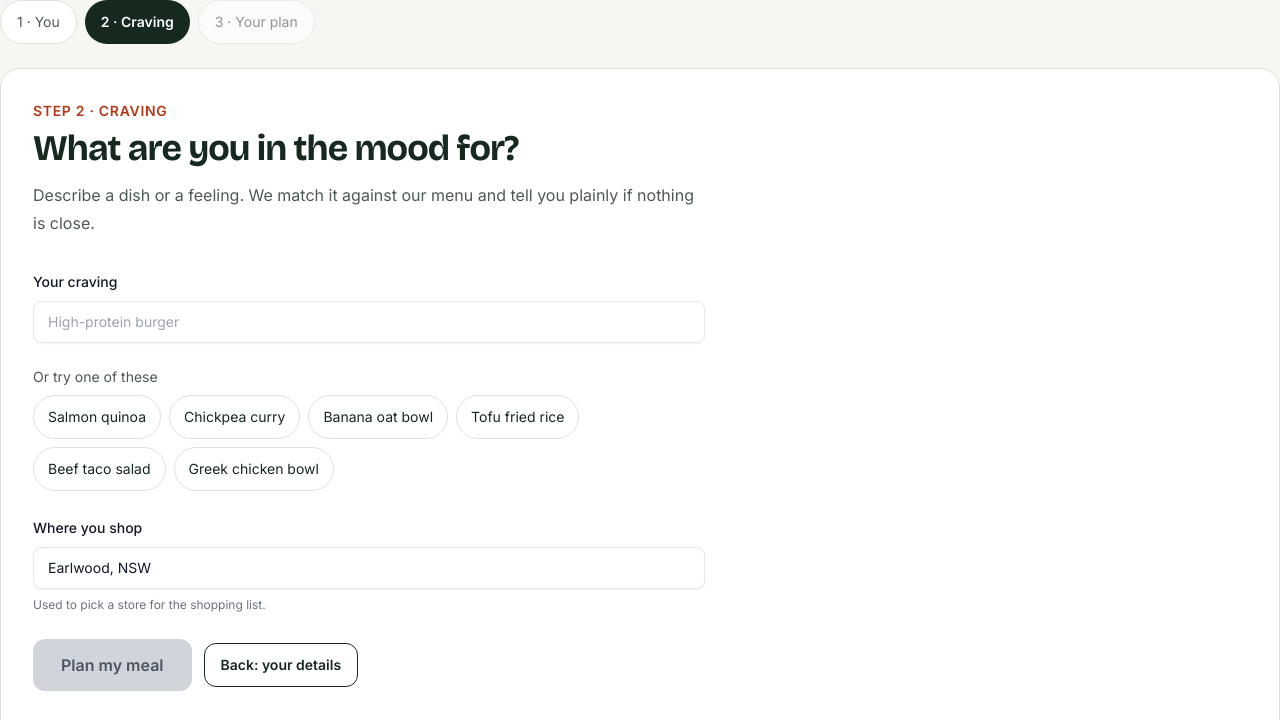
Scenario: MealFlow error text › shows the reason instead of an empty plan when no meal is feasible
Type "tofu" into the field labelled "Your craving" at (369, 322), box [33,301,705,343]
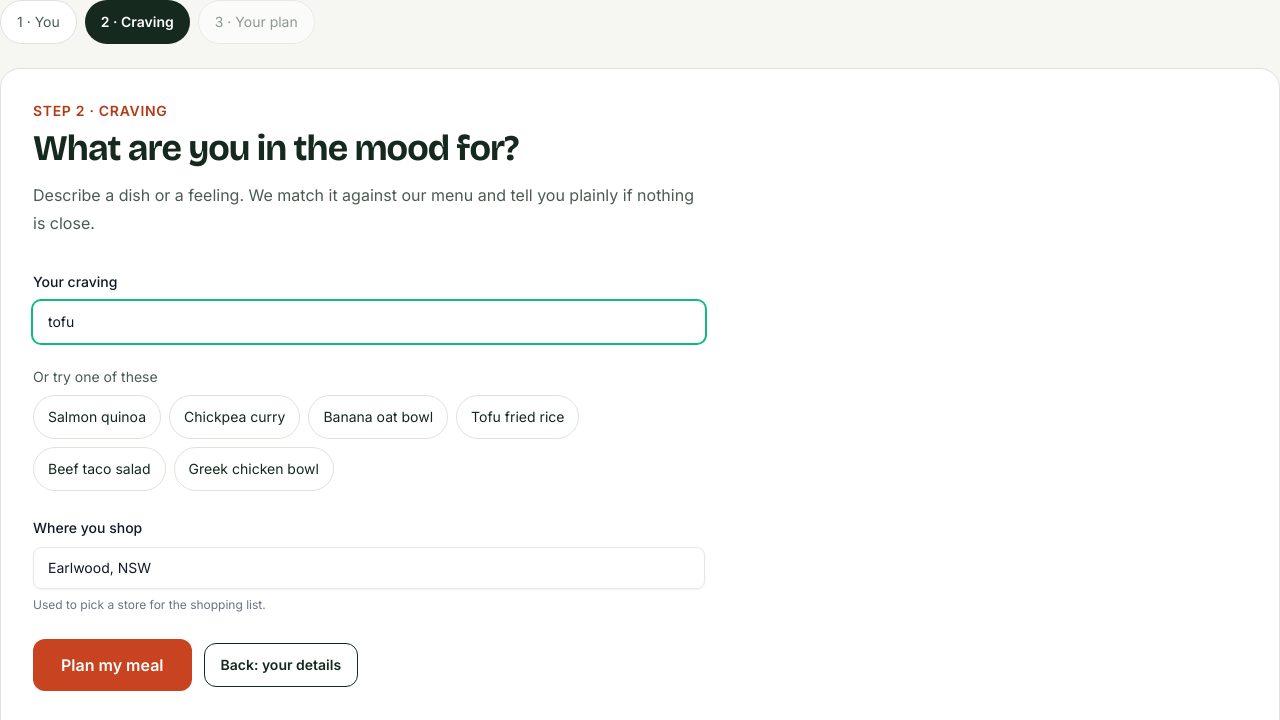
Click the button "Plan my meal" at (112, 665), box [33,639,192,691]
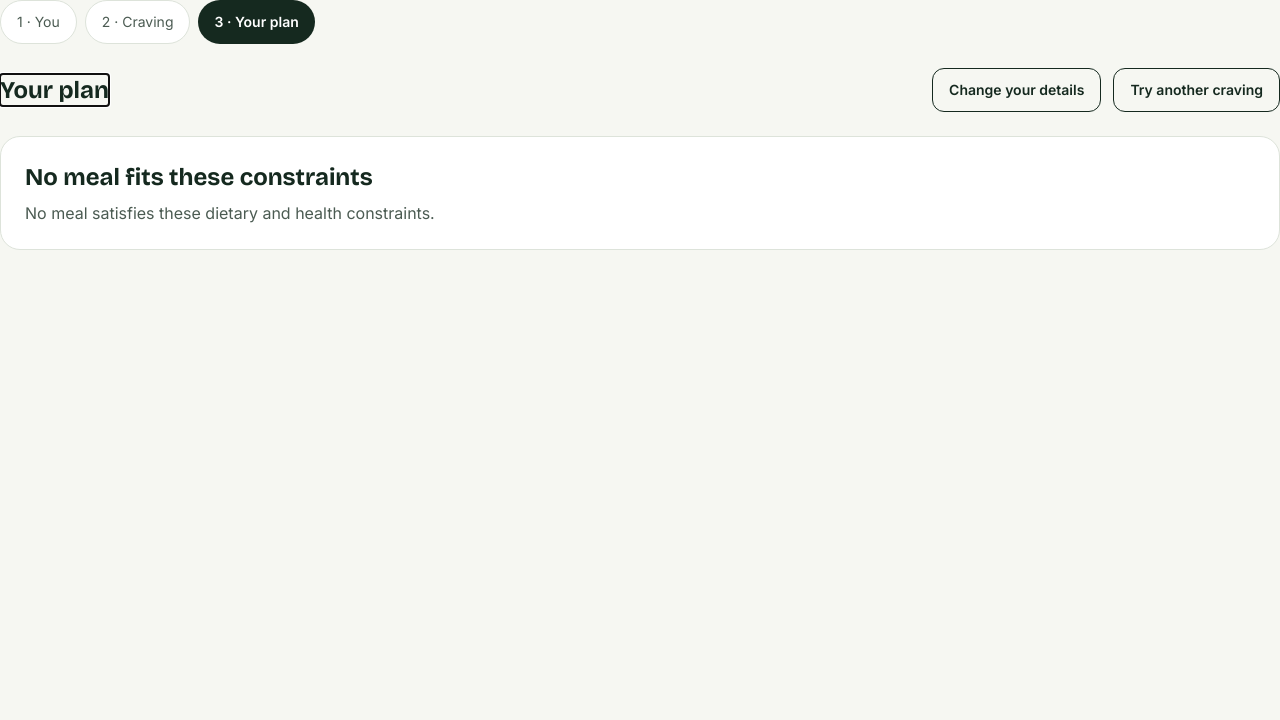
Result: the heading "No meal fits these constraints" is shown at [25,163,373,191]
Result: the text "No meal satisfies these dietary and health constraints." is shown at [25,203,435,223]
